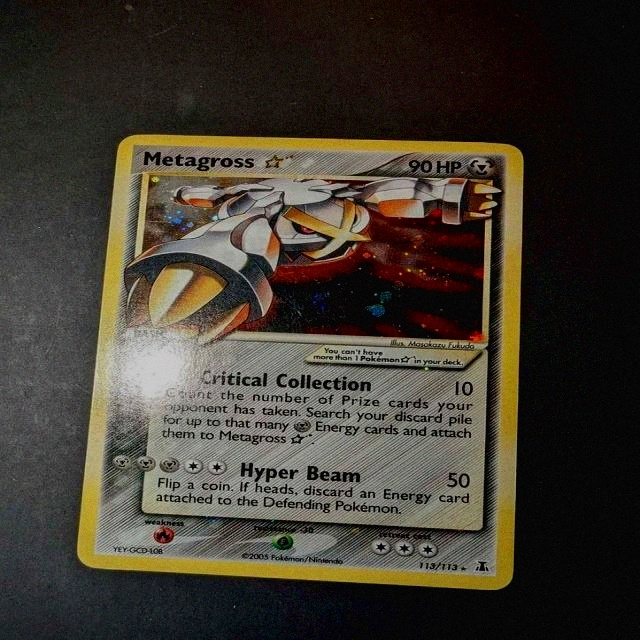card: (73, 135, 527, 592)
